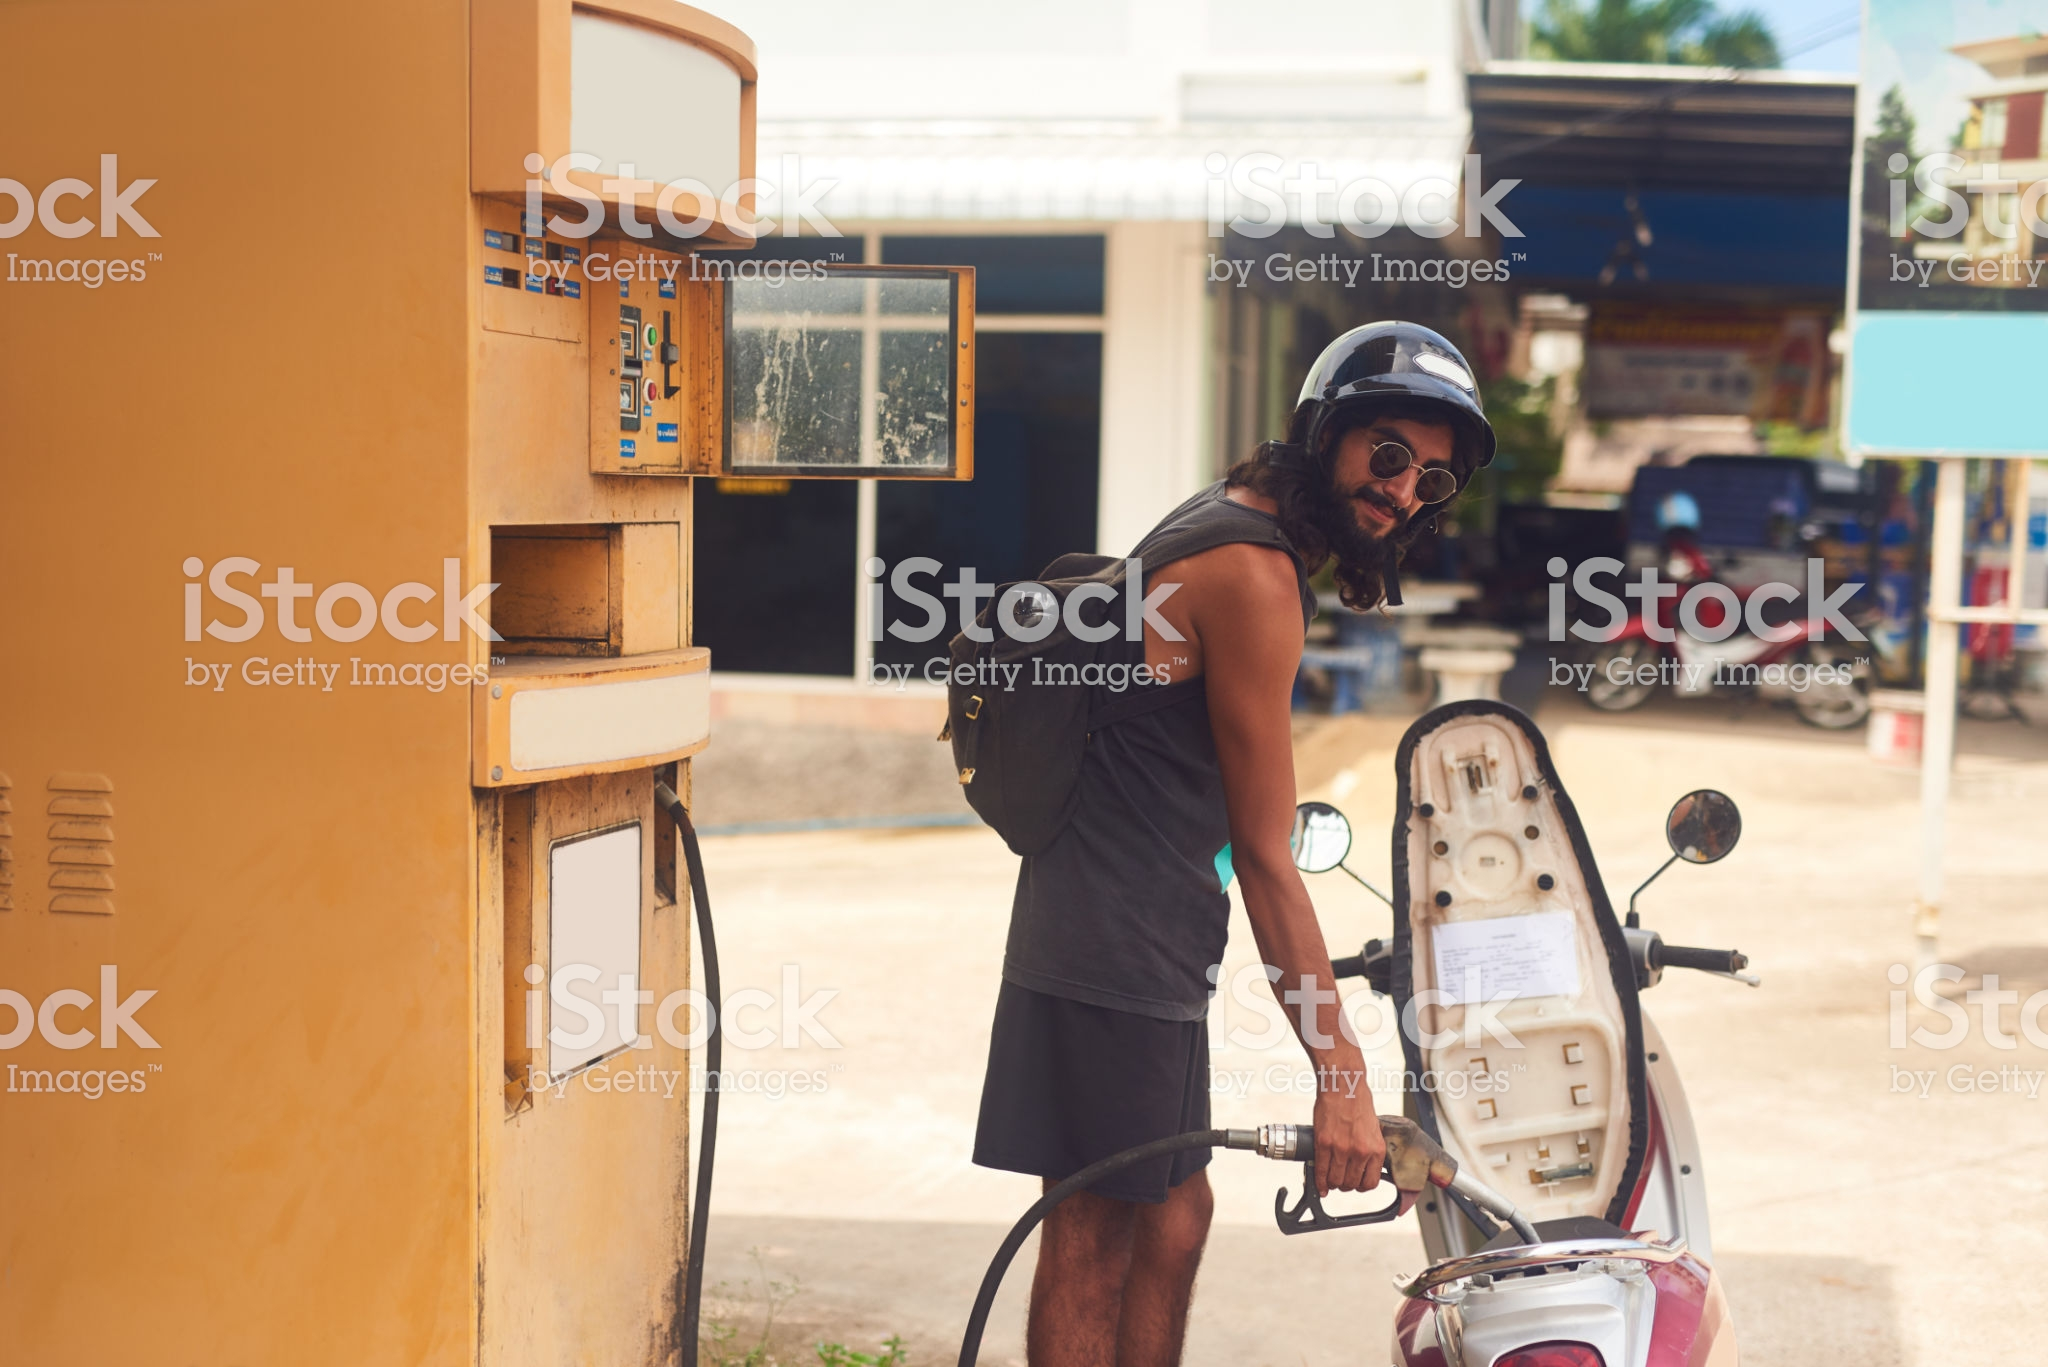helmet: (1279, 294, 1510, 459)
